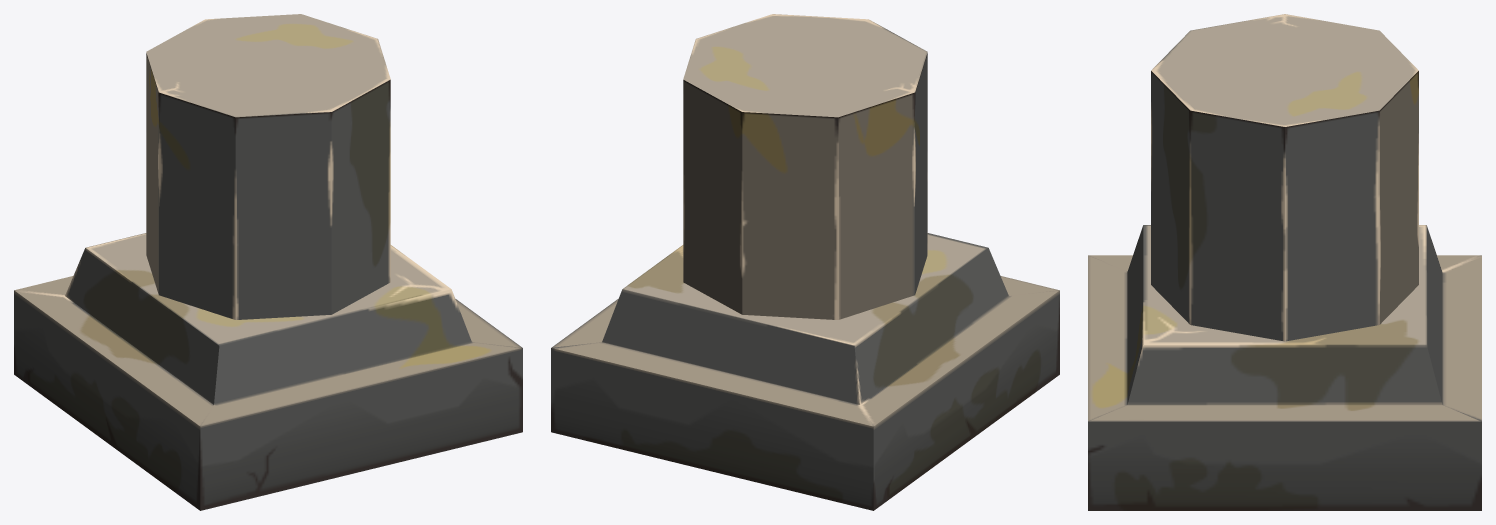
The model's file is Pillar_04_002.fbx.
3 renders of one model, left to right at view 1: azimuth 30°, elevation 25°; view 2: azimuth 150°, elevation 25°; view 3: azimuth 270°, elevation 25°, orthographic. The views are drawn at different scales.
Visible parts, largest first — view 1: Base_Pillar, Pillar_02; view 2: Base_Pillar, Pillar_02; view 3: Base_Pillar, Pillar_02.
Boxes of the visible parts, x1,y1,x2,y2 form: Base_Pillar: (14, 233, 522, 510); Pillar_02: (146, 14, 390, 319); Base_Pillar: (551, 233, 1059, 510); Pillar_02: (683, 14, 927, 319); Base_Pillar: (1088, 225, 1481, 510); Pillar_02: (1151, 14, 1418, 341).
Bounding box in the file's own units: 2 × 2 × 2.
Materials: 1 (1 with a texture image).
